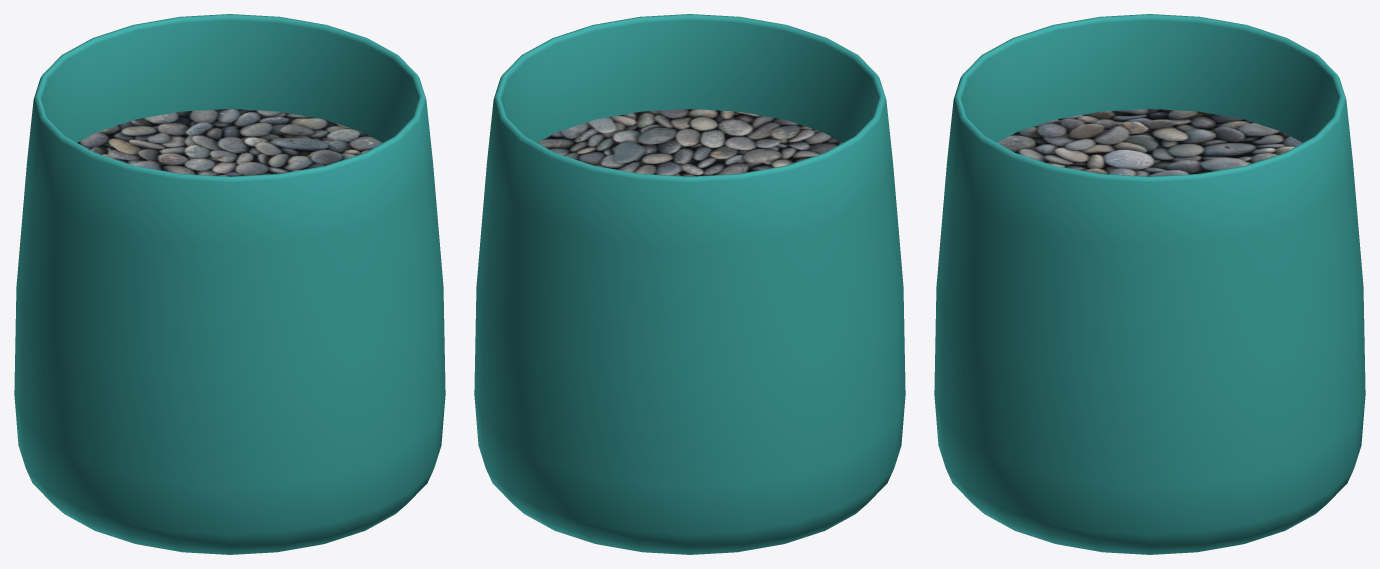
File: pot21.FBX
3 renders of one model, left to right at view 1: azimuth 30°, elevation 25°; view 2: azimuth 150°, elevation 25°; view 3: azimuth 270°, elevation 25°, orthographic.
Visible parts, largest first — view 1: pot21; view 2: pot21; view 3: pot21.
Boxes of the visible parts, box(x1,y1,x2,y2) form: pot21: box(14, 14, 445, 554); pot21: box(474, 14, 905, 554); pot21: box(934, 14, 1365, 554).
Size of the model in its own units: 9.73 by 9.73 by 9.5.
